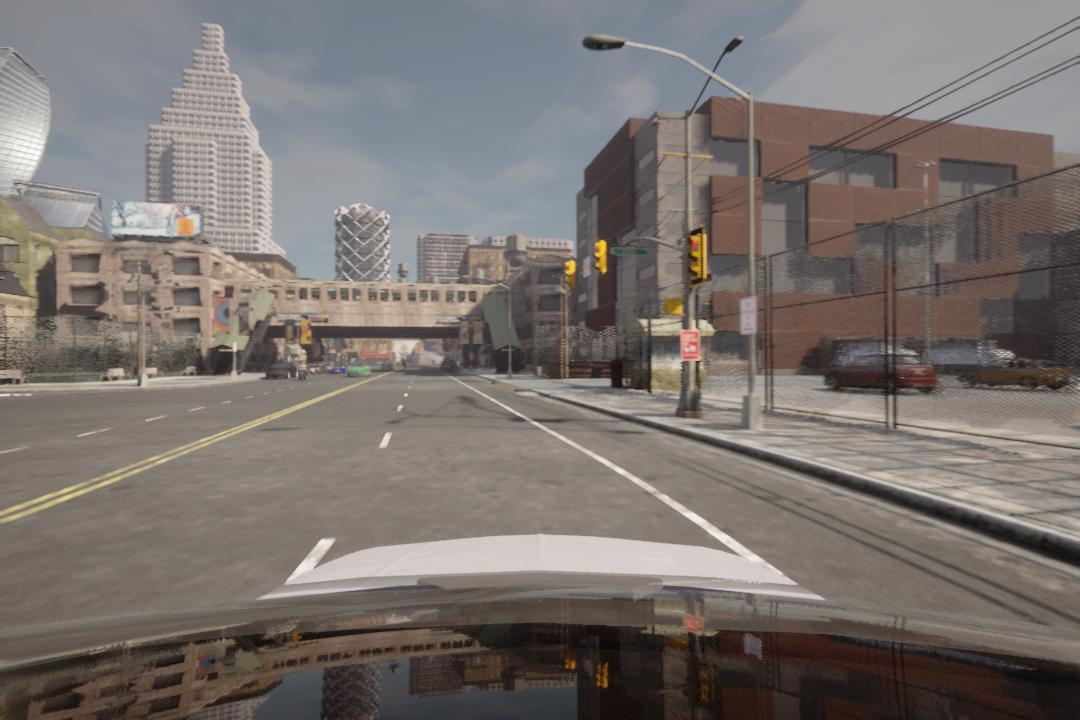TrafficLight: (686, 229, 707, 289), (593, 240, 609, 276), (563, 259, 580, 291)
